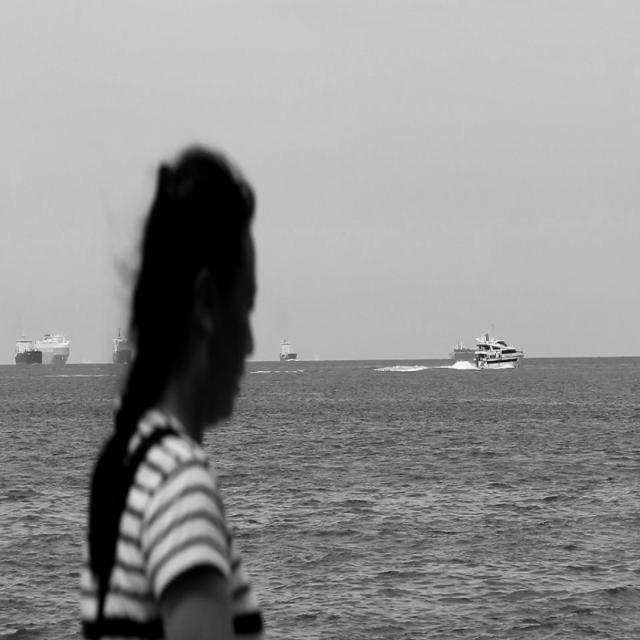ship: (469, 334, 527, 372), (34, 334, 71, 366), (109, 323, 132, 365), (445, 332, 476, 363), (14, 336, 44, 366), (276, 334, 298, 366)
